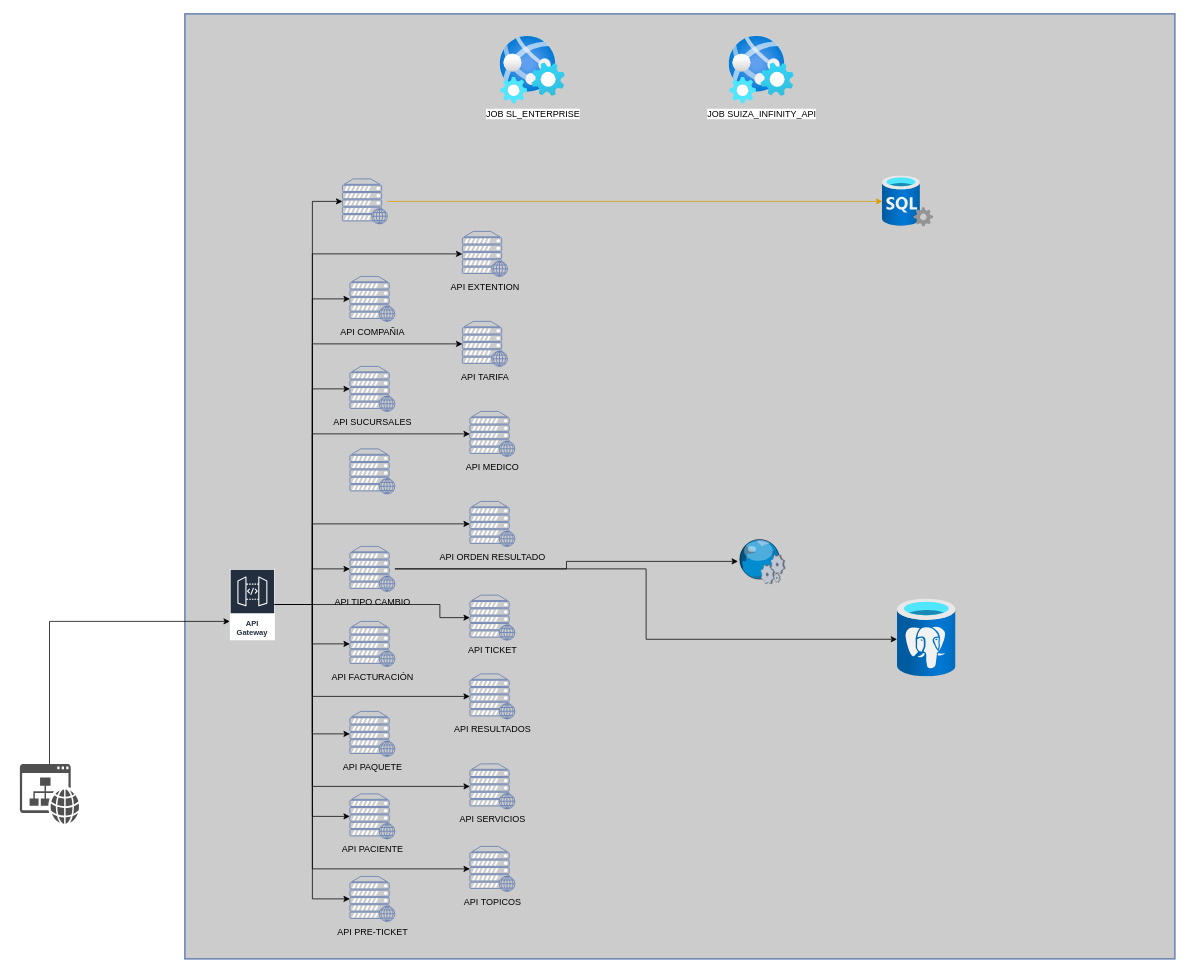
This 1188x972 diagram has some shape labels left out. The box of each missing label's shape, as (x1, y1, x2, y2) in pixels:
API ESCANEO: (349, 448, 395, 494)
BD Suizasoft: (897, 598, 956, 676)
IDENTITYSOFT: (341, 178, 388, 224)
SITE SUIZASOFT: (20, 764, 79, 824)
WEB TIPO_CAMBIO: (738, 538, 785, 584)
